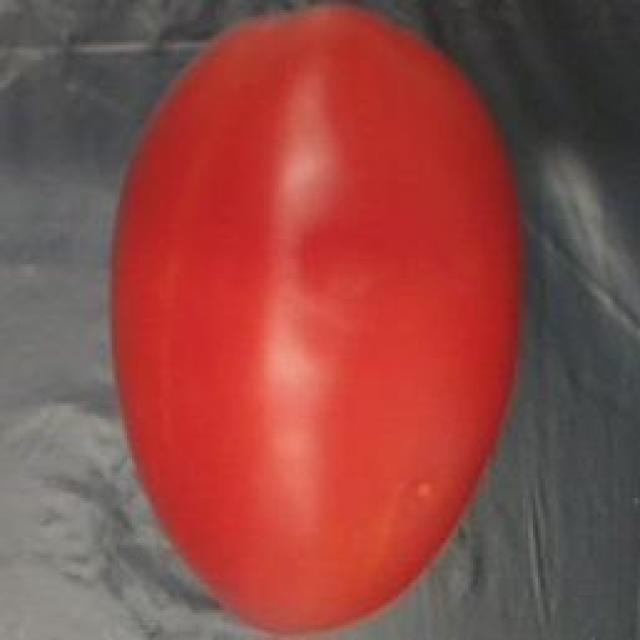ripe tomato: (87, 0, 548, 640)
